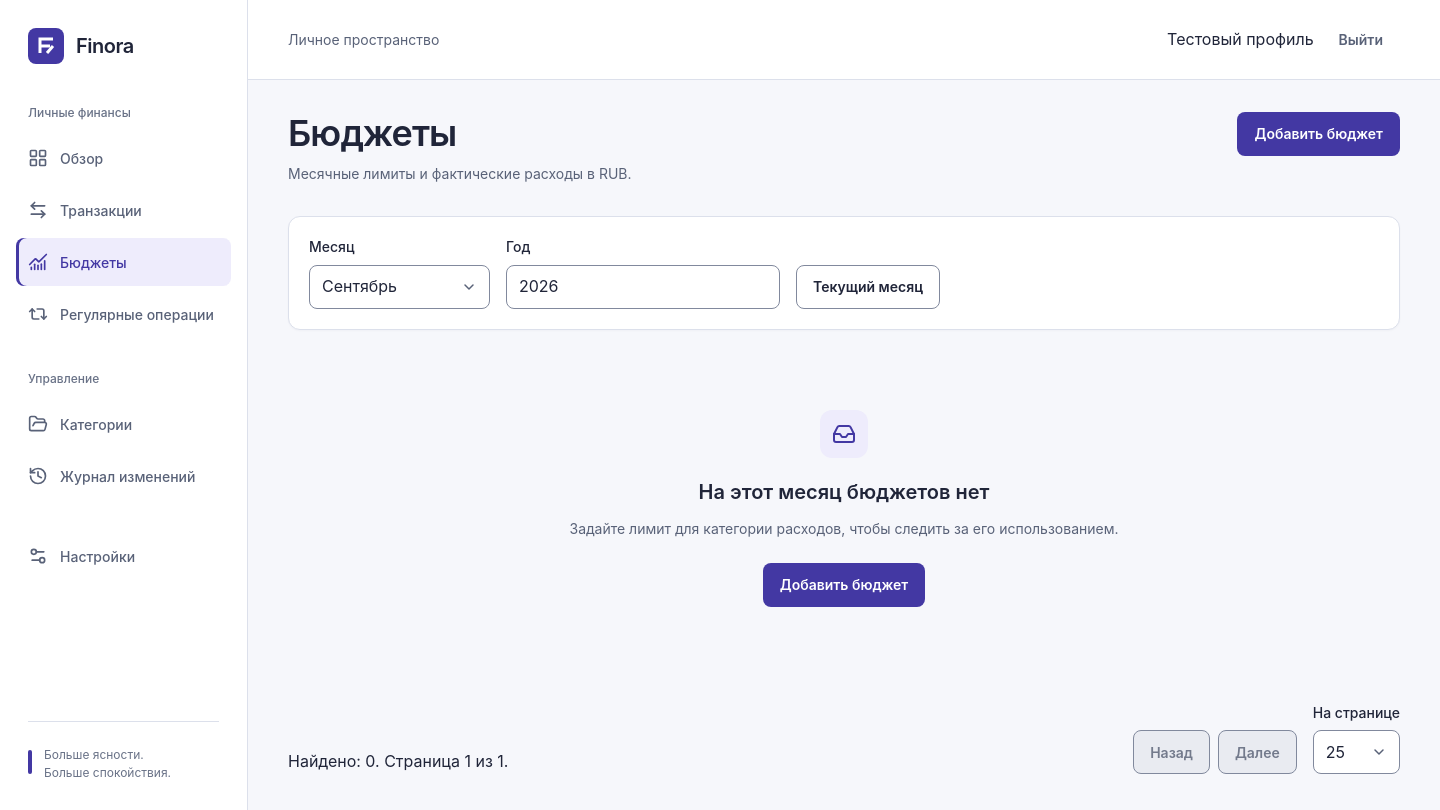
Test case: Budget empty state и создание из пустого месяца
Expected: the heading "На этот месяц бюджетов нет" is shown, top-left (699, 478), bottom-right (989, 506)
Click the button "Добавить бюджет" below "На этот месяц бюджетов нет": coordinates (844, 585) top-left (763, 563), bottom-right (925, 607)
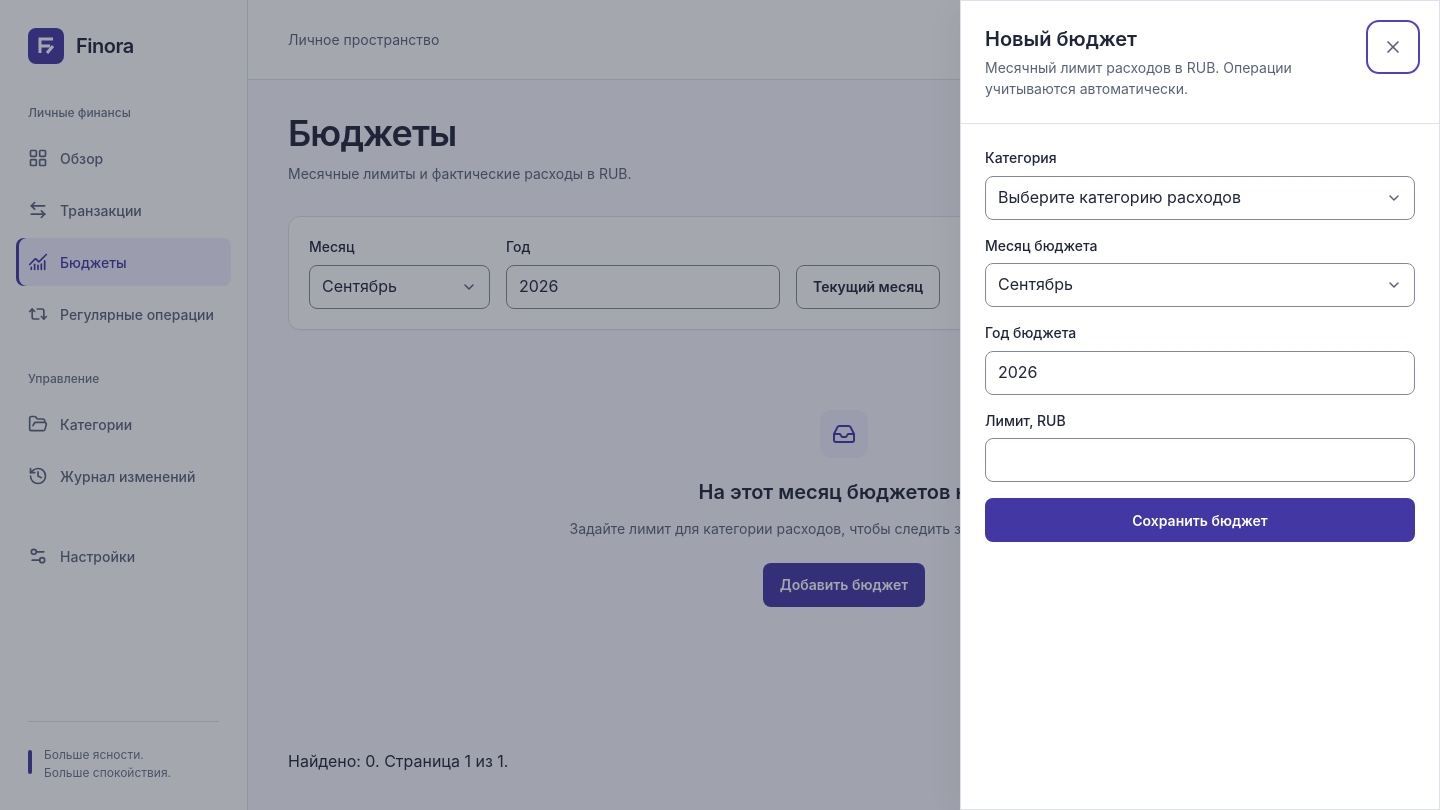
Expected: the dialog "Новый бюджет" is shown, top-left (960, 0), bottom-right (1439, 809)
